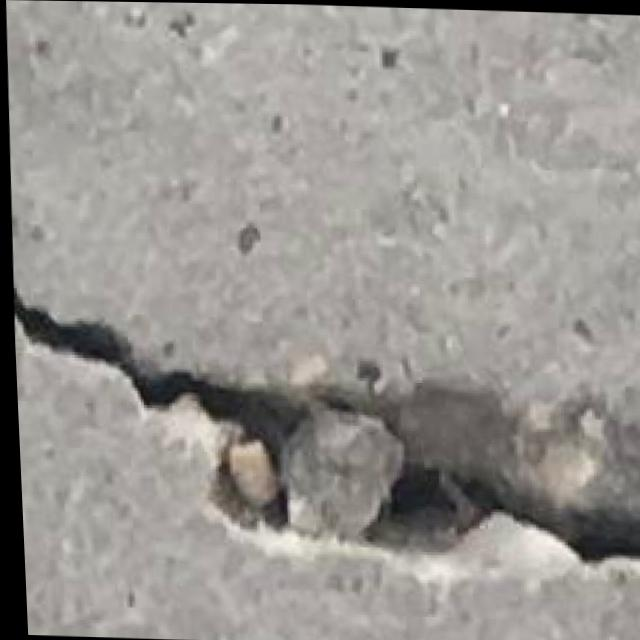Crack: (10, 276, 640, 571)
